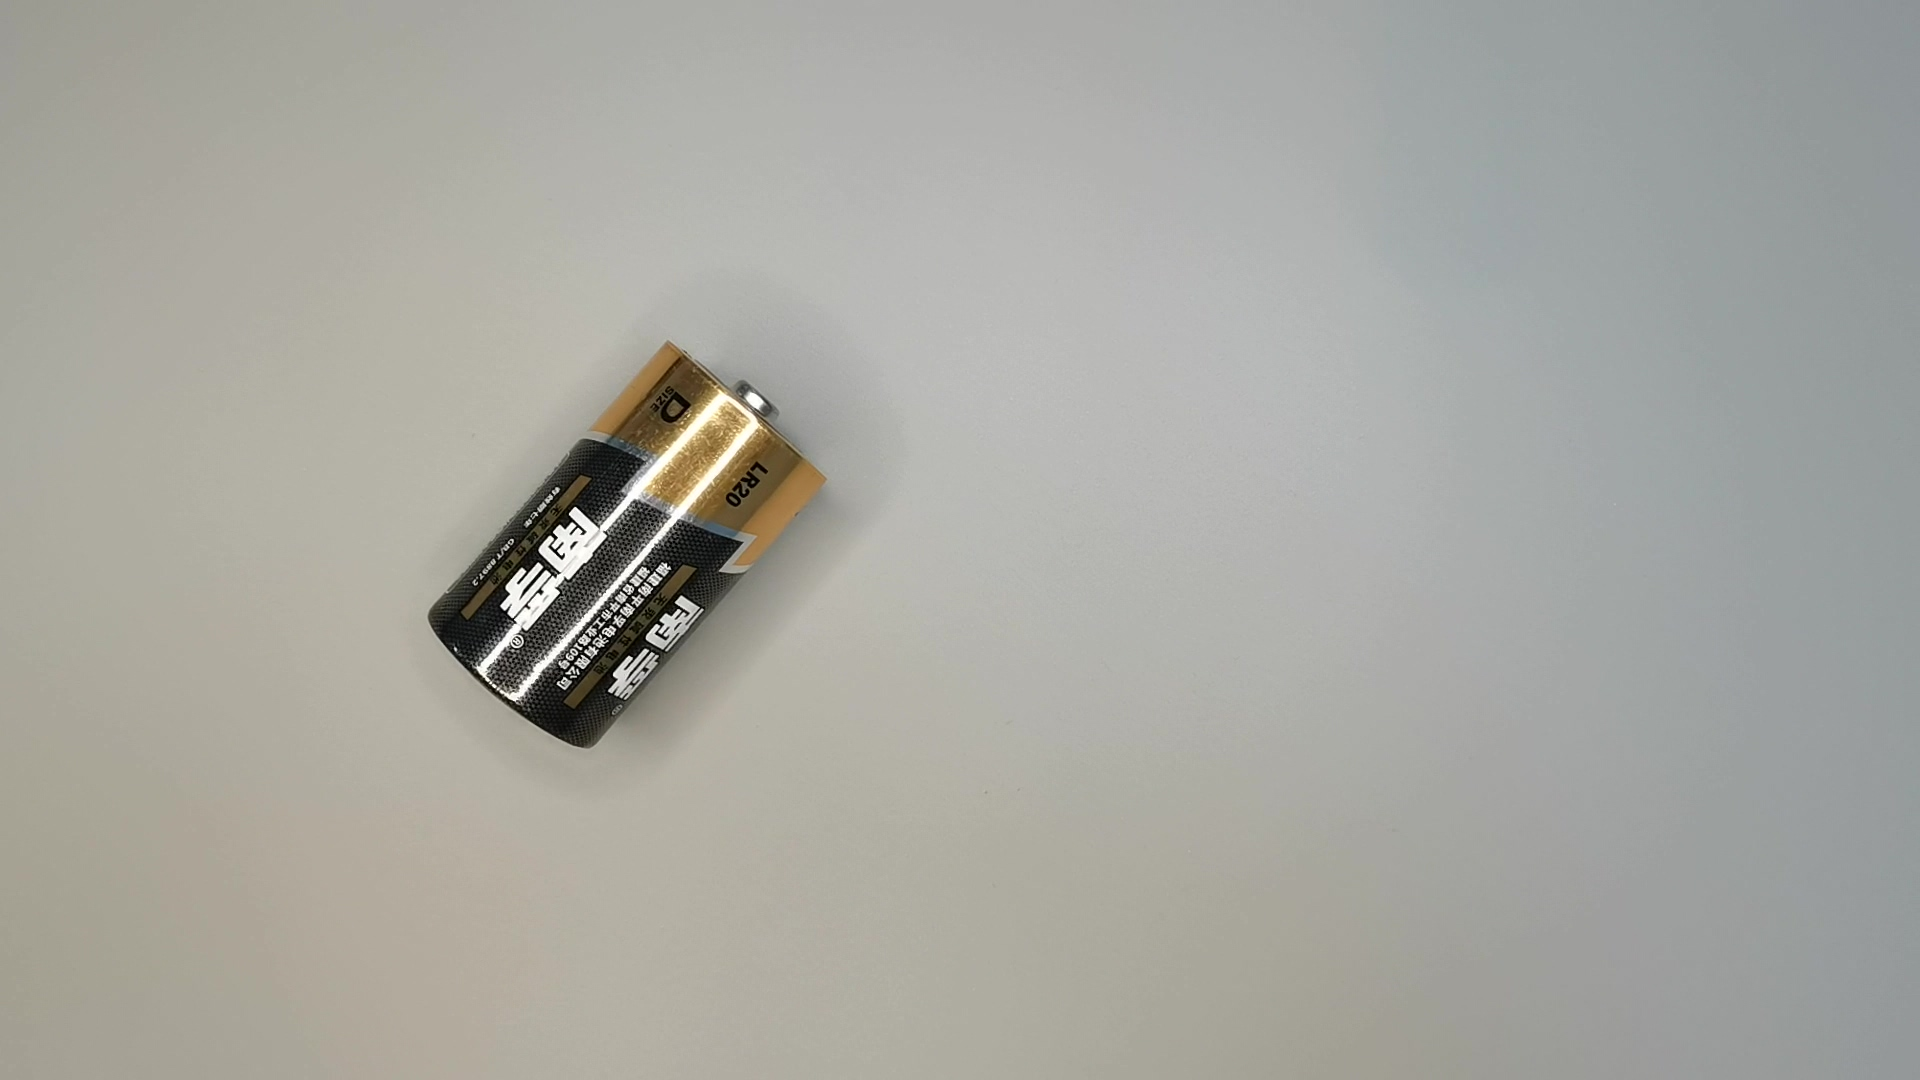battery: (422, 331, 833, 765)
